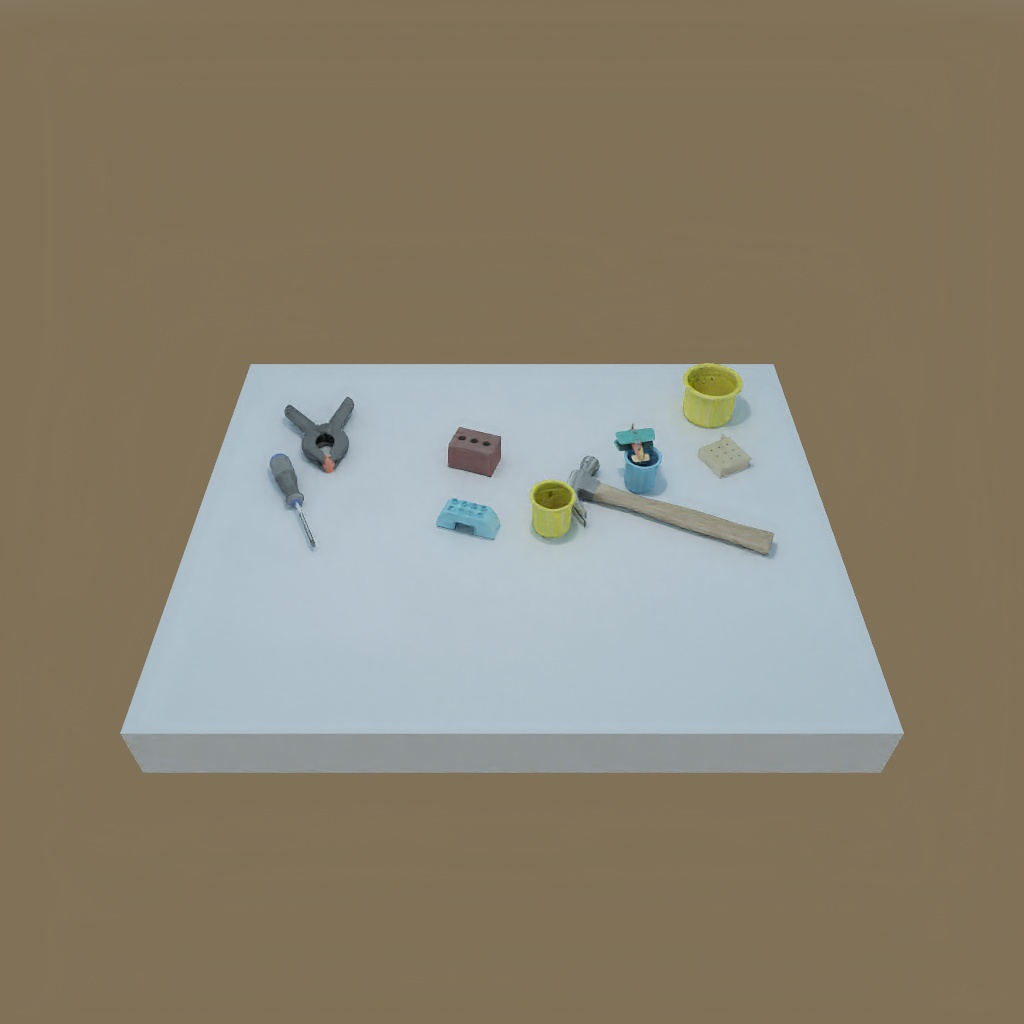hammer: (562, 456, 774, 557)
